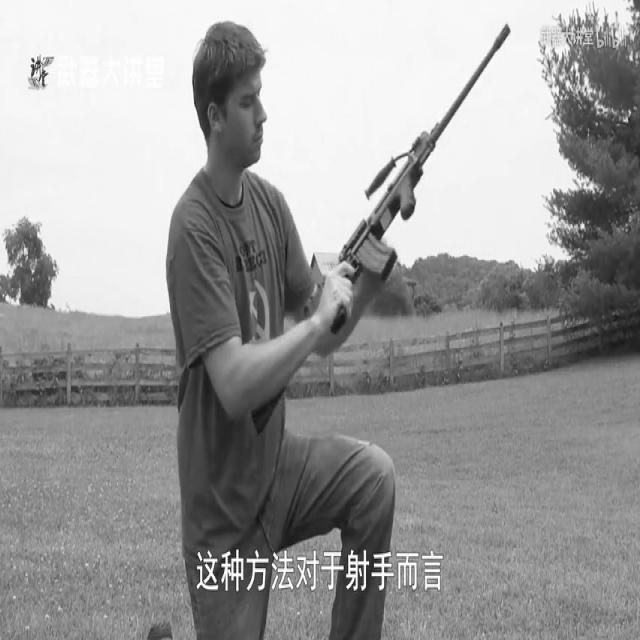Sniper: (150, 0, 560, 460)
